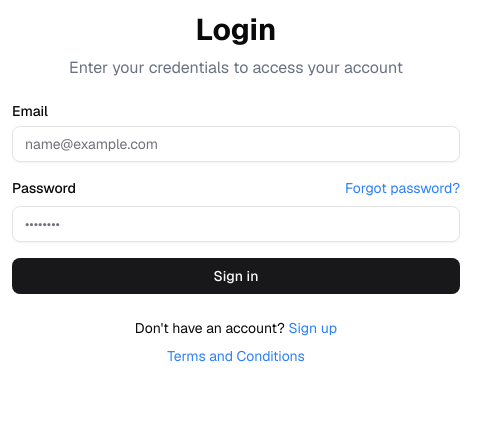
Test: Authentication Flow › LoginForm › validates required fields
What coordinates should you click on to do the following:
click the button "Sign in"
I would click on:
 (236, 276)
Its box is left=12, top=258, right=460, bottom=294.
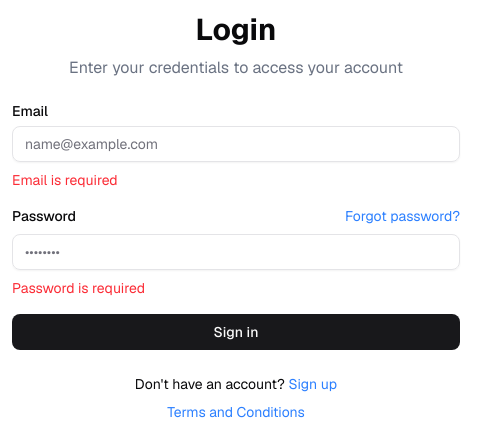
Now the text "Email is required" is shown, box left=12, top=171, right=118, bottom=189
Now the text "Password is required" is shown, box left=12, top=279, right=145, bottom=297
